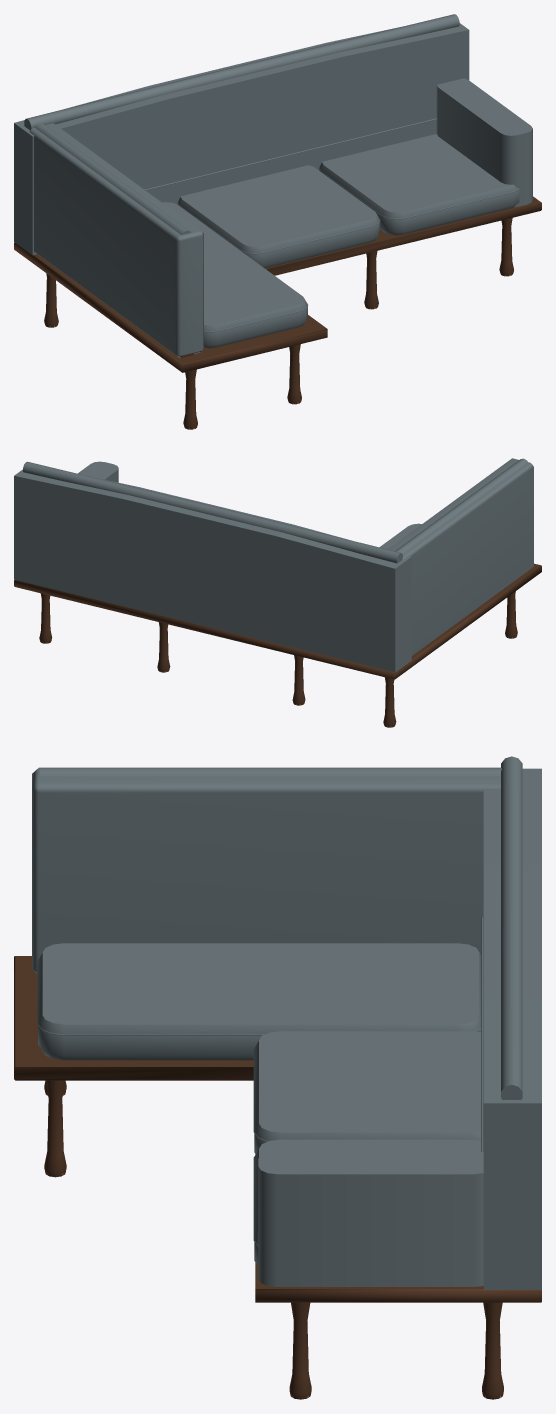
File: rpg-mansion-corner-settee-left-01.glb
3 renders of one model, top to bottom at view 1: azimuth 30°, elevation 25°; view 2: azimuth 150°, elevation 25°; view 3: azimuth 270°, elevation 25°, orthographic. The views are drawn at different scales.
Visible parts, largest first — view 1: rpg-mansion-corner-settee-left-01; view 2: rpg-mansion-corner-settee-left-01; view 3: rpg-mansion-corner-settee-left-01.
Boxes of the visible parts, <box> form: rpg-mansion-corner-settee-left-01: <box>14,14,541,429</box>; rpg-mansion-corner-settee-left-01: <box>14,458,541,727</box>; rpg-mansion-corner-settee-left-01: <box>14,756,541,1399</box>.
Size of the model in its own units: 2.1 by 0.95 by 1.4.
